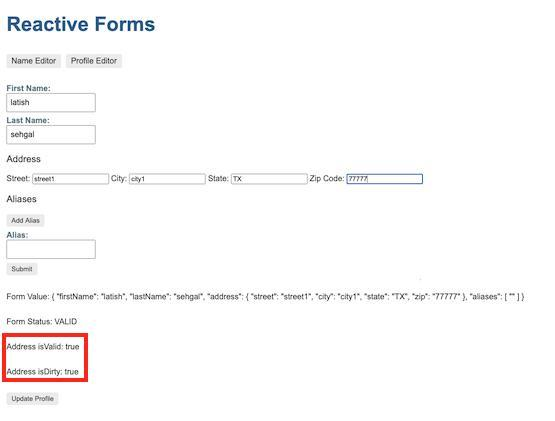button: (67, 55, 124, 69), (8, 393, 60, 407), (9, 55, 61, 68), (8, 215, 46, 228), (7, 264, 38, 277)
input: (6, 126, 97, 145), (7, 241, 97, 260), (8, 94, 96, 113), (33, 173, 108, 187), (129, 173, 204, 186), (233, 173, 309, 185), (347, 175, 424, 185)
label: (6, 12, 169, 39), (5, 191, 41, 209), (5, 82, 56, 94), (7, 116, 52, 127), (6, 155, 48, 166), (310, 173, 345, 185), (6, 173, 32, 185), (5, 230, 31, 242), (208, 175, 232, 185), (111, 173, 127, 187)
